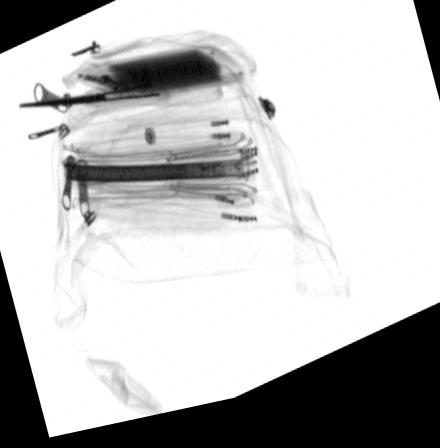Powerbank: (75, 50, 245, 108)
Scissors: (14, 66, 220, 120)
